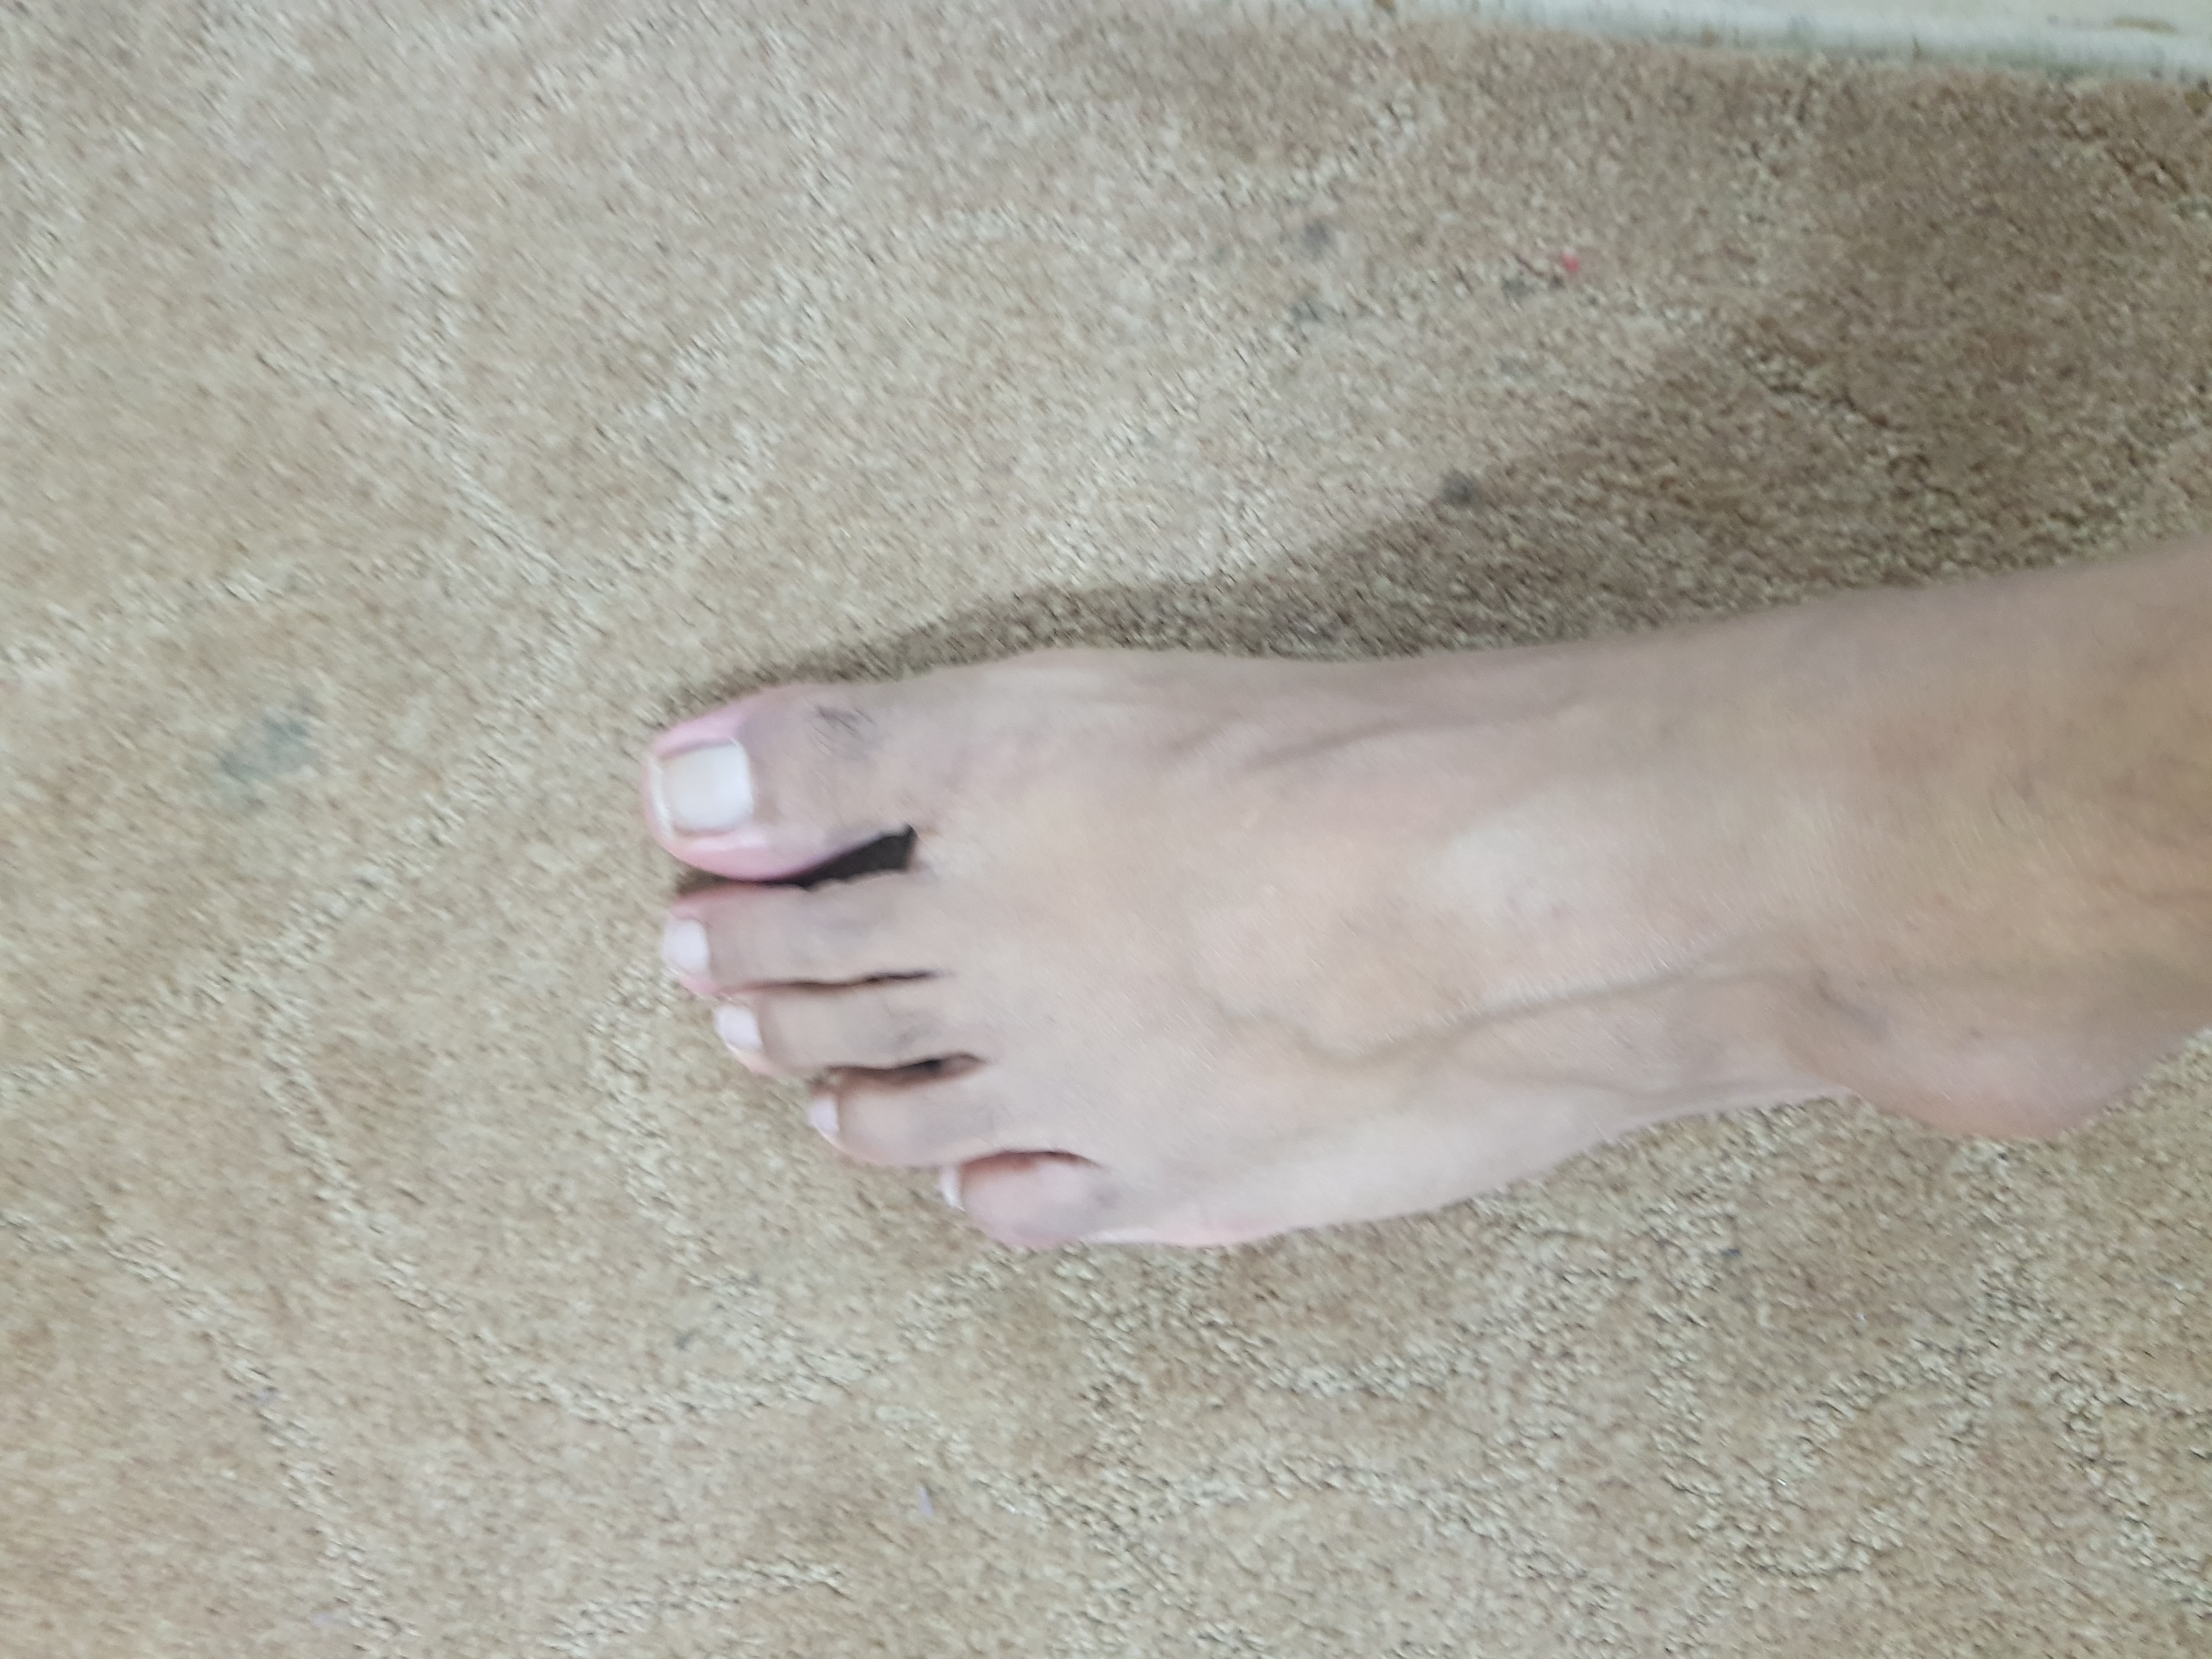feet: (540, 589, 2177, 1262)
